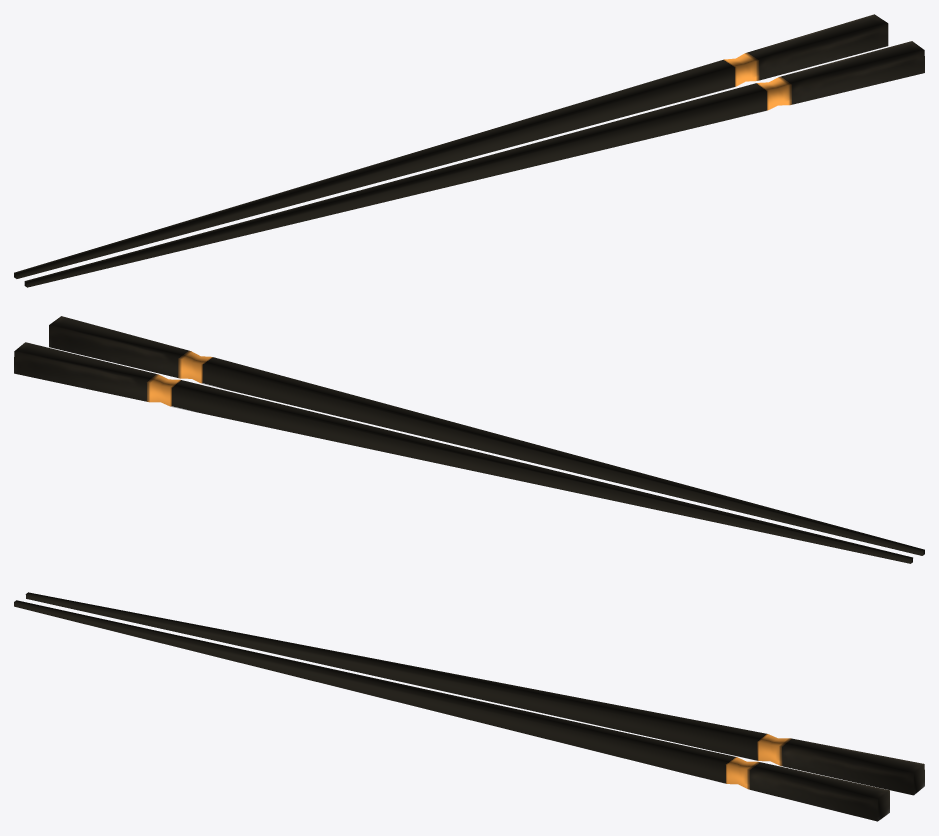
The model's file is chopsticks.obj.
The picture shows the model from 3 angles, top to bottom: view 1: azimuth 30°, elevation 25°; view 2: azimuth 150°, elevation 25°; view 3: azimuth 330°, elevation 25°; orthographic projection. The views are drawn at different scales.
Parts seen in each view (by area): view 1: obj1.013, obj1.014; view 2: obj1.014, obj1.013; view 3: obj1.014, obj1.013.
Part boxes in pixels (x1,y1,x2,y2): obj1.013: (24,41,924,287); obj1.014: (14,14,888,278); obj1.014: (14,342,912,563); obj1.013: (49,316,924,555); obj1.014: (25,592,924,795); obj1.013: (14,600,889,821).
Size of the model in its own units: 243 by 6.08 by 23.27.
1 material, 1 textured.
